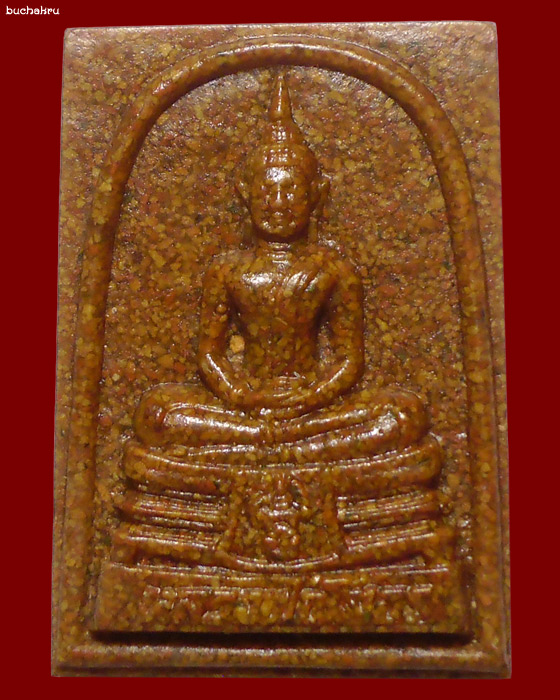4: (46, 14, 518, 686)
pra: (47, 18, 516, 684)
